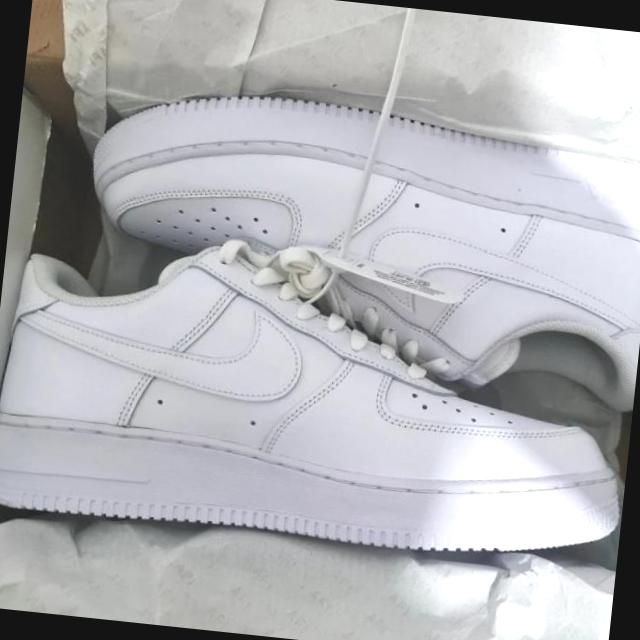nike_original_airforce: (0, 224, 640, 577), (68, 75, 640, 415)
